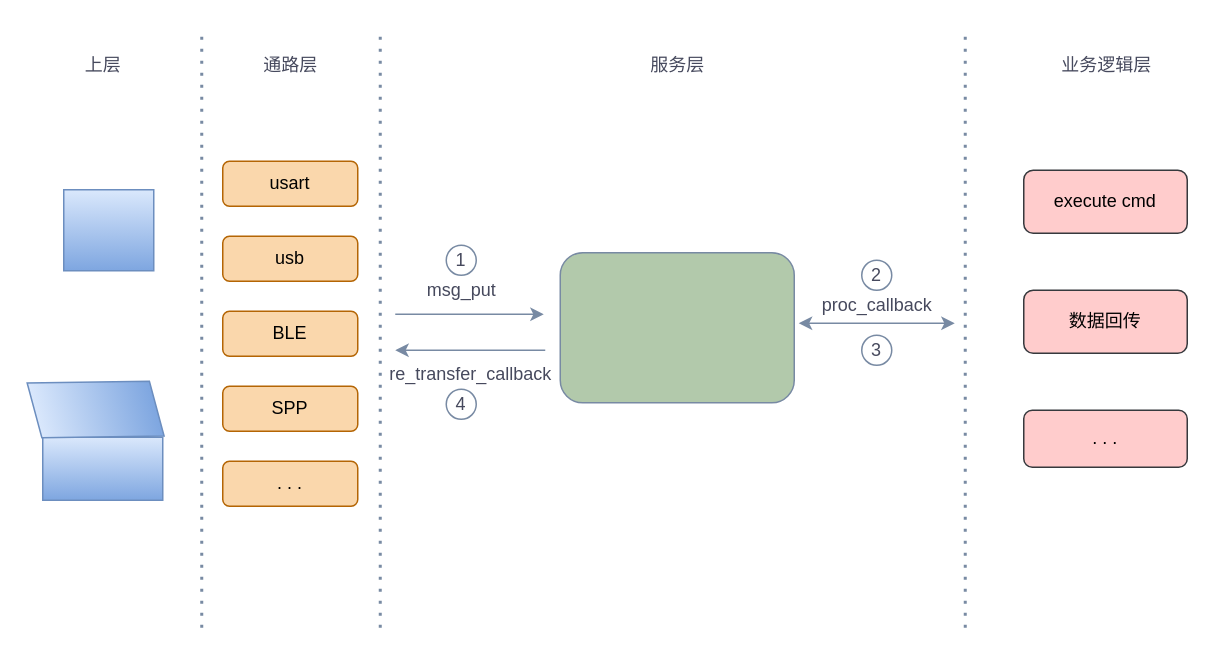
The diagram is 1214 pixels wide and 656 high, and some of its shapes have lost their labels. Here are the shapes that lost their labels. From the top down, the centre of each, then its label:
At point (108, 229): "APP".
At point (676, 327): "msg services （基于mailbox的消息类型 处理服务）".
At point (102, 468): "上位机".
